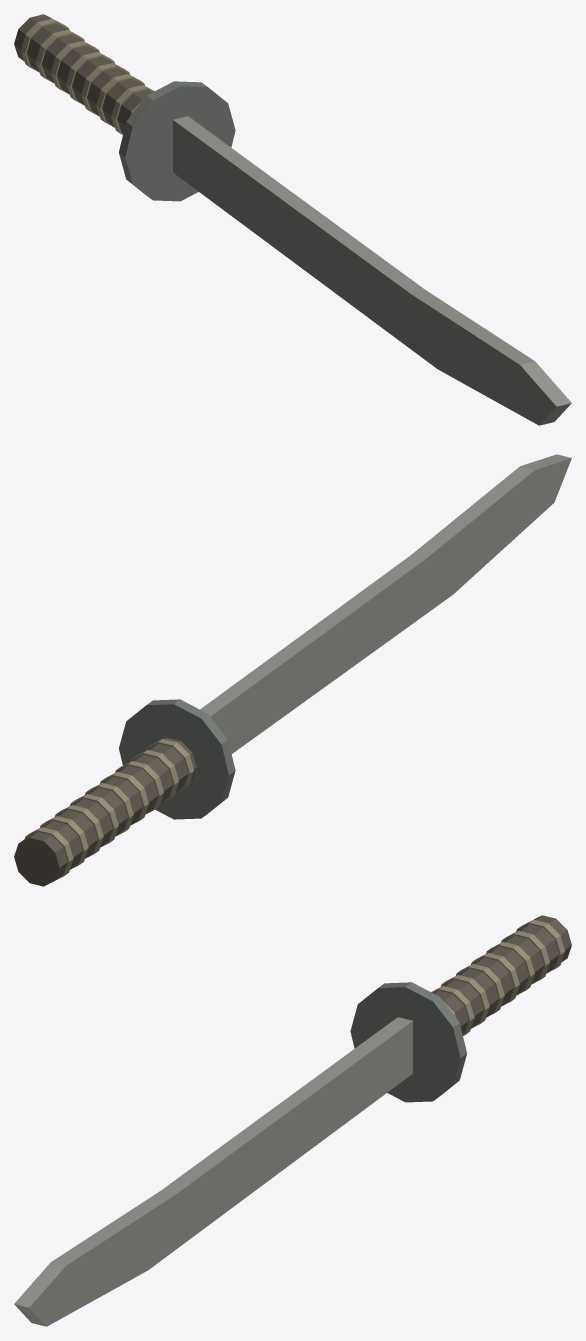
The model's file is sword_guard.glb.
3 views of the same model, one above another, from view 1: azimuth 30°, elevation 25°; view 2: azimuth 150°, elevation 25°; view 3: azimuth 330°, elevation 25° (orthographic).
Bounding box in the file's own units: 0.116 × 0.116 × 0.962.
